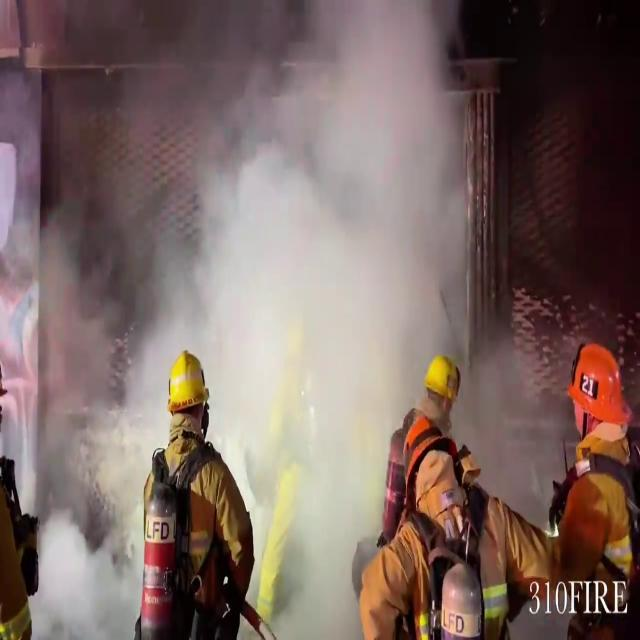Smoke: (1, 0, 527, 621)
